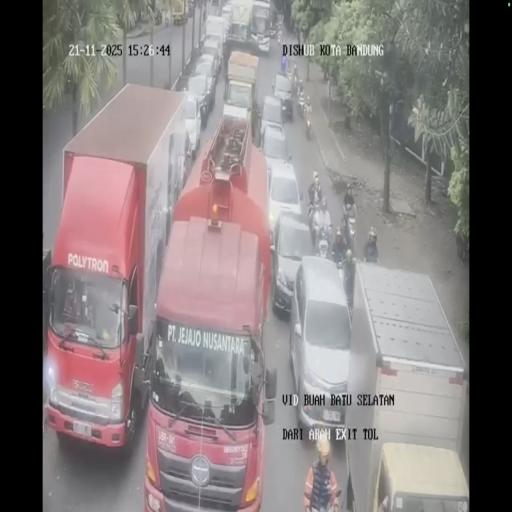car: (271, 210, 315, 318), (222, 81, 254, 135), (185, 72, 212, 129), (271, 71, 294, 120), (201, 36, 223, 74), (220, 3, 233, 37)
motorcycle: (306, 198, 320, 246), (344, 215, 356, 254), (297, 87, 307, 119), (292, 68, 302, 95), (304, 110, 312, 140)
